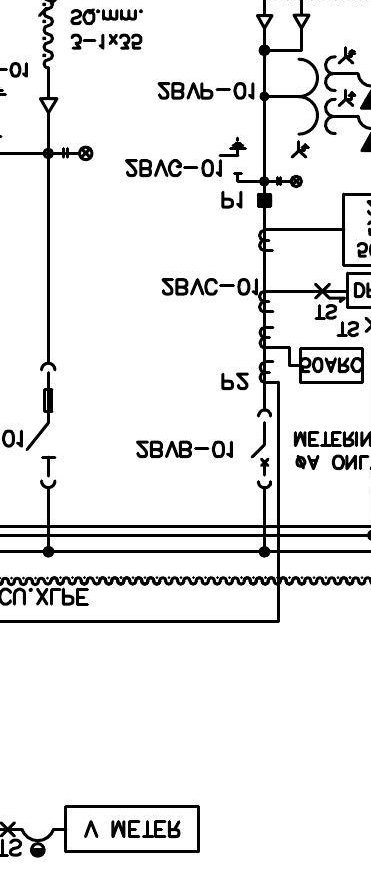22_breaker: (250, 408, 273, 490)
22_ds: (25, 361, 57, 490)
22_gs: (217, 135, 247, 175)
22_ll: (62, 145, 94, 162), (275, 174, 304, 189)
terminator_double: (255, 13, 311, 53)
terminator_single: (38, 96, 60, 115)
v_m_digital: (63, 804, 201, 854)
